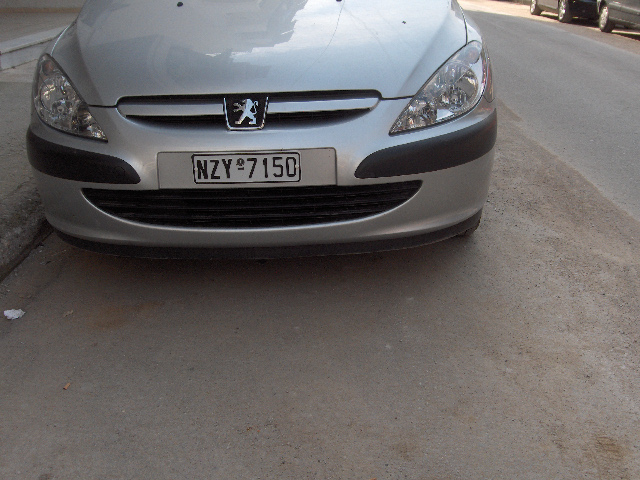licenseplate: (189, 151, 303, 185)
